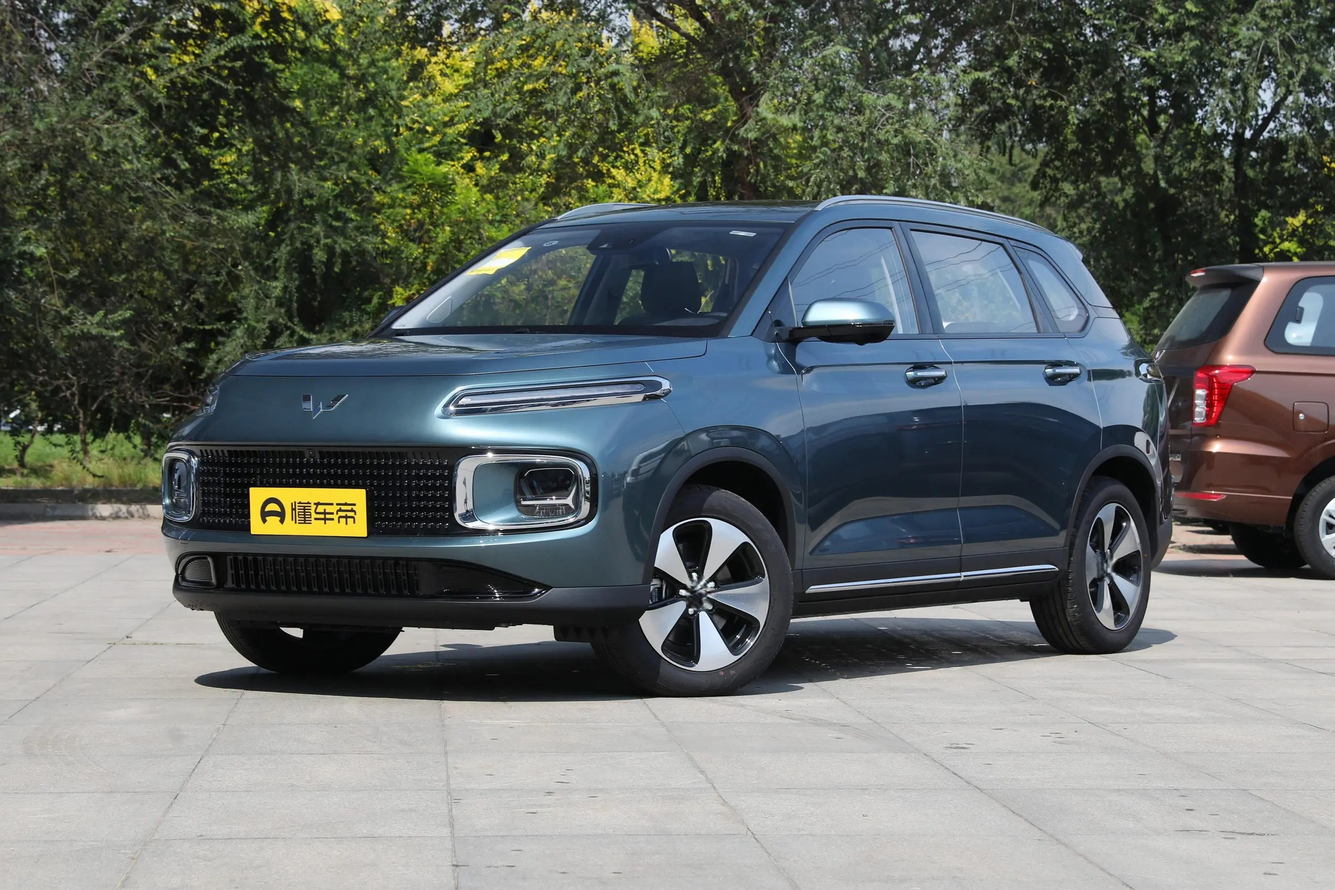SGMW: (302, 394, 348, 418)
